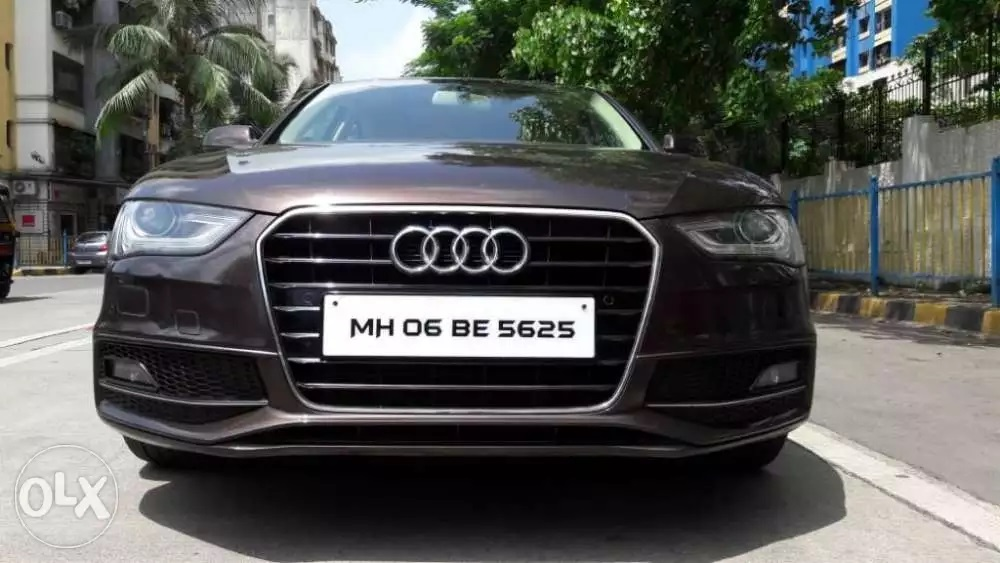licenseplate: (324, 289, 601, 363)
